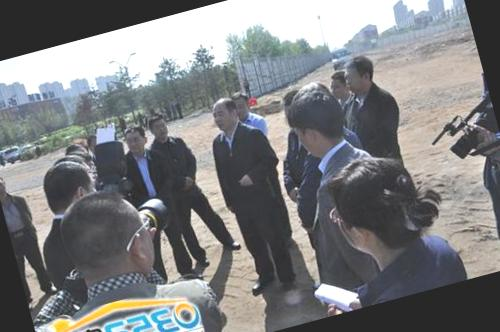no_helmet: (316, 144, 438, 272), (44, 182, 161, 302), (277, 78, 354, 160), (36, 155, 100, 222), (342, 50, 384, 101), (208, 92, 244, 134), (119, 119, 152, 159), (324, 66, 357, 105), (143, 109, 172, 145), (229, 86, 257, 123), (0, 170, 14, 200)
